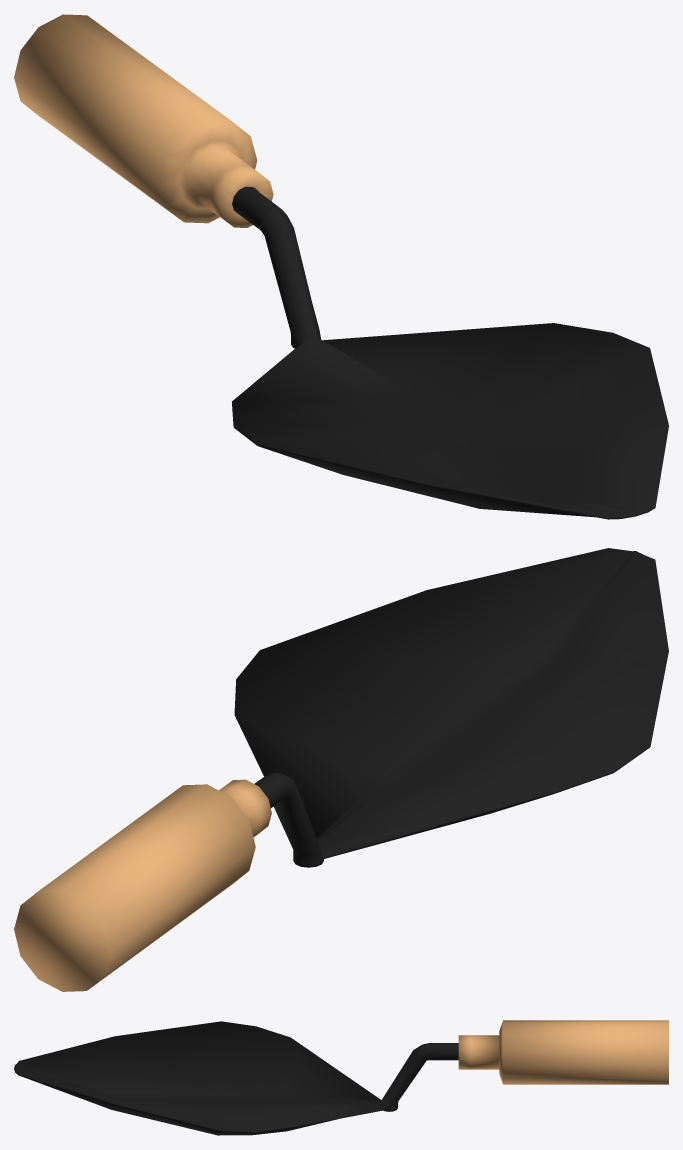
Rendered from trowel.fbx.
3 renders of one model, top to bottom at view 1: azimuth 30°, elevation 25°; view 2: azimuth 150°, elevation 25°; view 3: azimuth 270°, elevation 25°, orthographic. The views are drawn at different scales.
Parts seen in each view (by area): view 1: Sandok, Handle.001; view 2: Sandok, Handle.001; view 3: Sandok, Handle.001.
Boxes of the visible parts, x1,y1,x2,y2 form: Sandok: (232,186,668,519); Handle.001: (14,14,273,227); Sandok: (234,548,668,867); Handle.001: (14,779,271,991); Sandok: (14,1021,458,1135); Handle.001: (458,1020,668,1084).
Size of the model in its own units: 422 by 154 by 1070.
